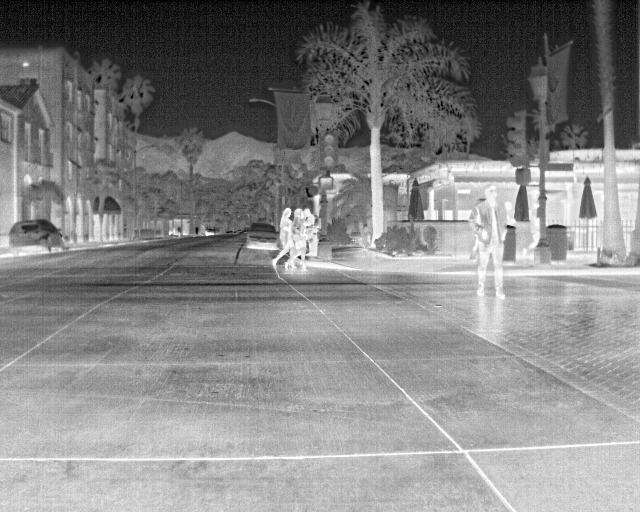bicycle: (5, 218, 64, 257), (242, 222, 280, 253)
empty: (468, 185, 510, 299), (267, 205, 295, 271), (282, 208, 310, 271), (522, 200, 542, 256), (291, 206, 307, 234), (501, 200, 517, 227), (300, 207, 318, 226)
